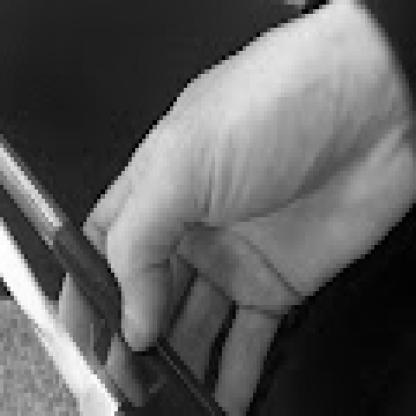good: (45, 23, 361, 411)
